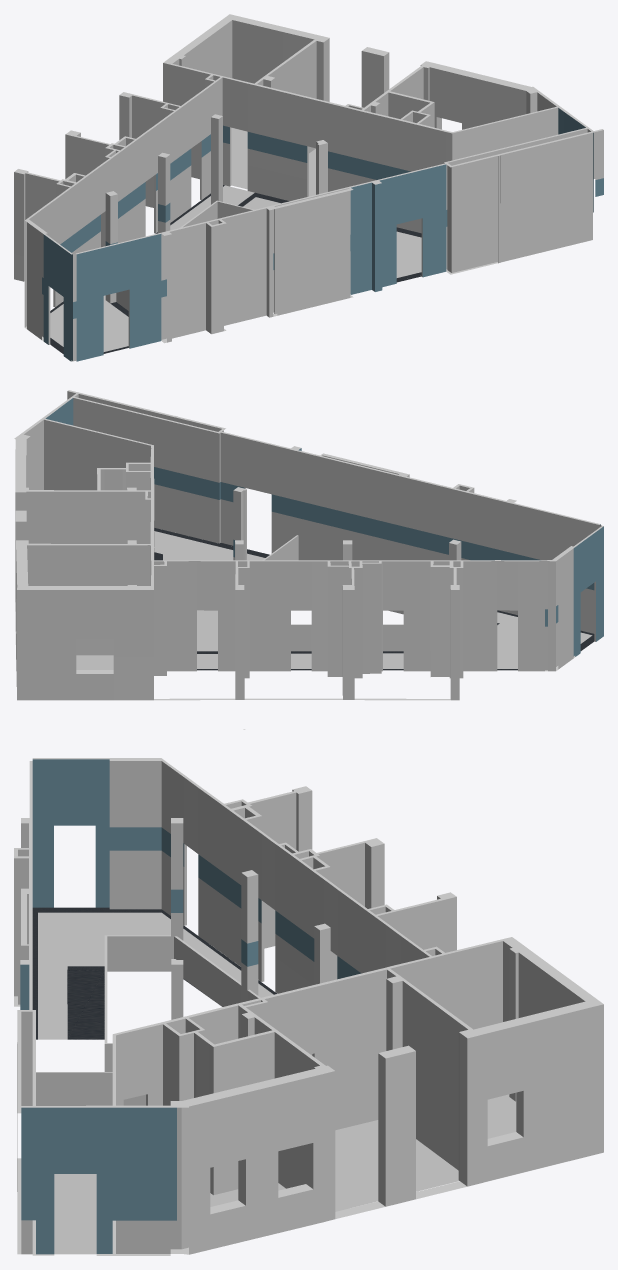
Rendered from HallPart_2ndFloor.fbx.
3 renders of one model, top to bottom at view 1: azimuth 30°, elevation 25°; view 2: azimuth 150°, elevation 25°; view 3: azimuth 270°, elevation 25°, orthographic. The views are drawn at different scales.
Visible parts, largest first — view 1: Plane.001; view 2: Plane.001; view 3: Plane.001.
Boxes of the visible parts, x1=… form: Plane.001: x1=14, y1=14, x2=603, y2=361; Plane.001: x1=14, y1=390, x2=603, y2=729; Plane.001: x1=14, y1=758, x2=603, y2=1255.
Bounding box in the file's own units: 3139 × 1047 × 2203.
